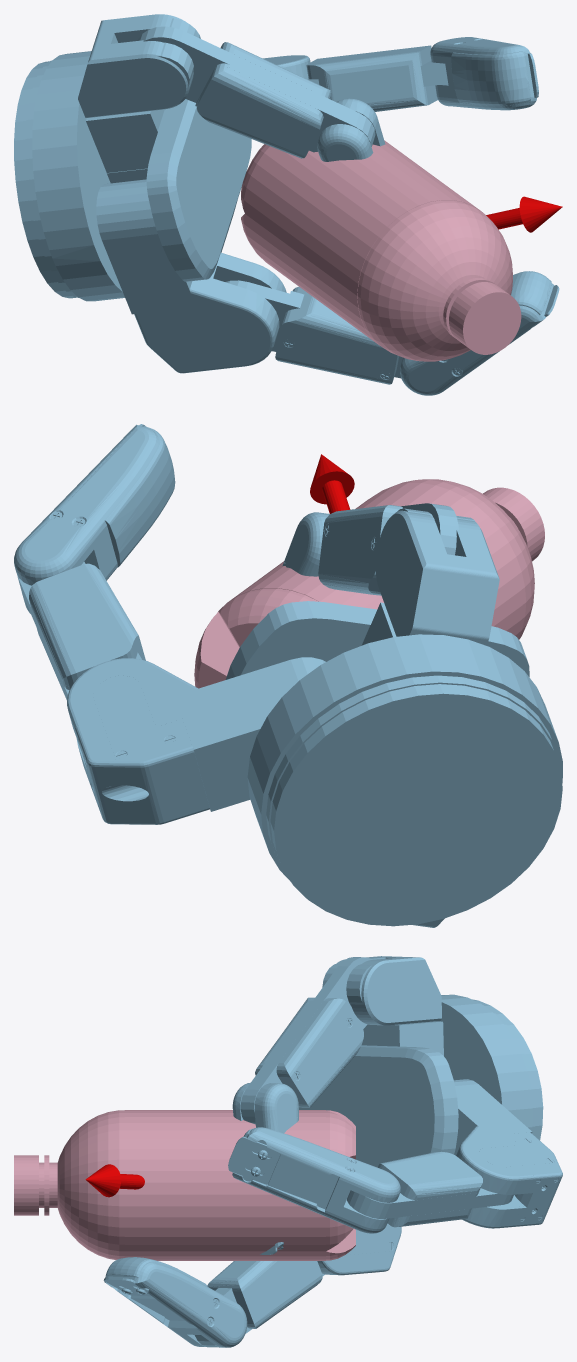
3 renders of one model, top to bottom at view 1: azimuth 30°, elevation 25°; view 2: azimuth 150°, elevation 25°; view 3: azimuth 270°, elevation 25°, orthographic. The views are drawn at different scales.
Parts seen in each view (by area): view 1: world, water_bottle.stl; view 2: world, water_bottle.stl; view 3: world, water_bottle.stl.
Part boxes in pixels (bbox=[...]): world: bbox=[14, 14, 562, 395]; water_bottle.stl: bbox=[241, 140, 521, 361]; world: bbox=[14, 424, 562, 927]; water_bottle.stl: bbox=[194, 479, 544, 688]; world: bbox=[85, 956, 562, 1347]; water_bottle.stl: bbox=[14, 1110, 355, 1260].
Size of the model in its own units: 0.185 by 0.1372 by 0.219.
